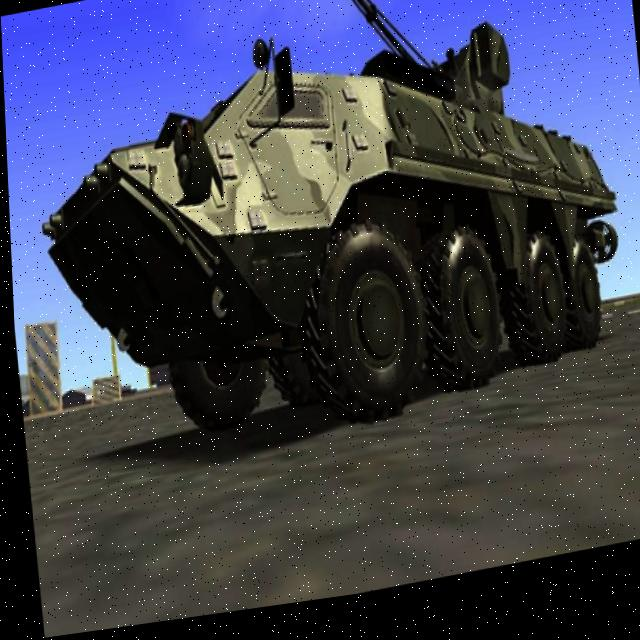MIL_APC: (24, 0, 640, 464)
